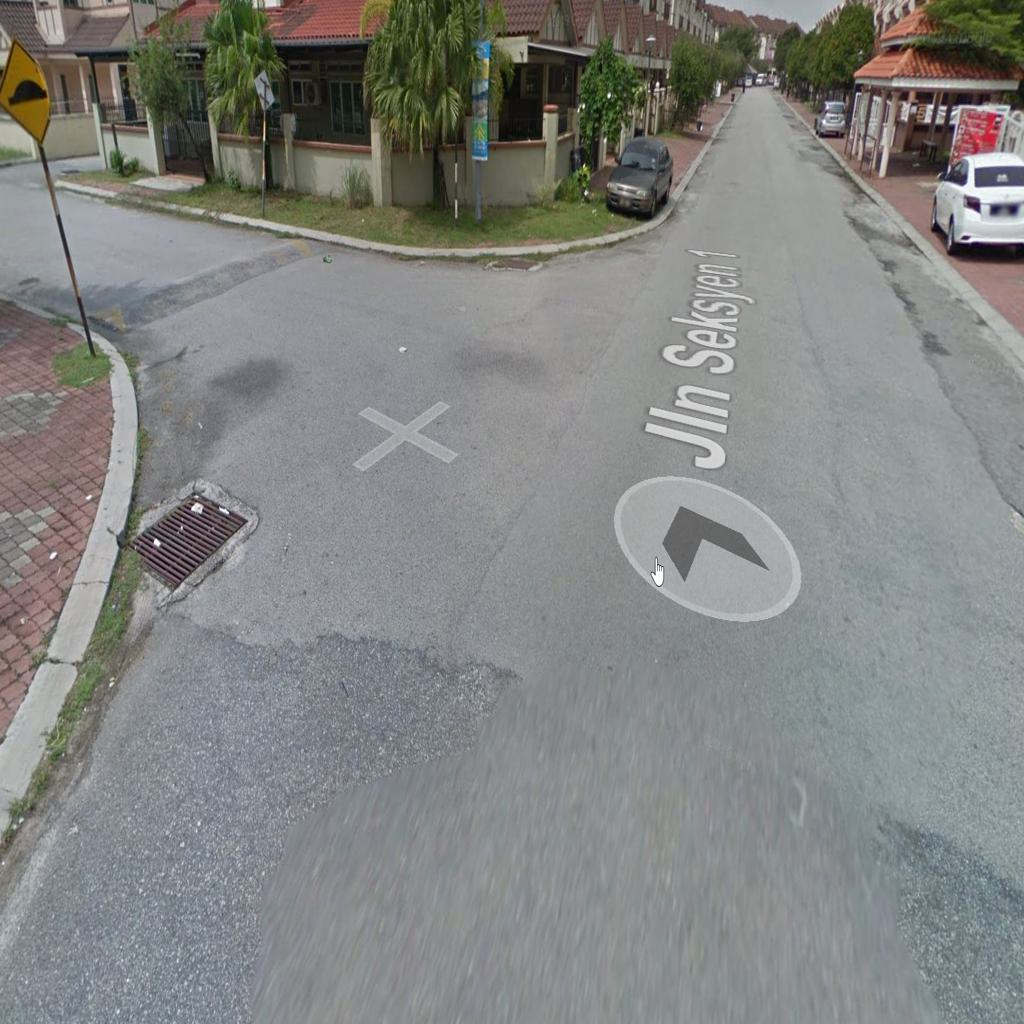Junction: (17, 180, 639, 616)
